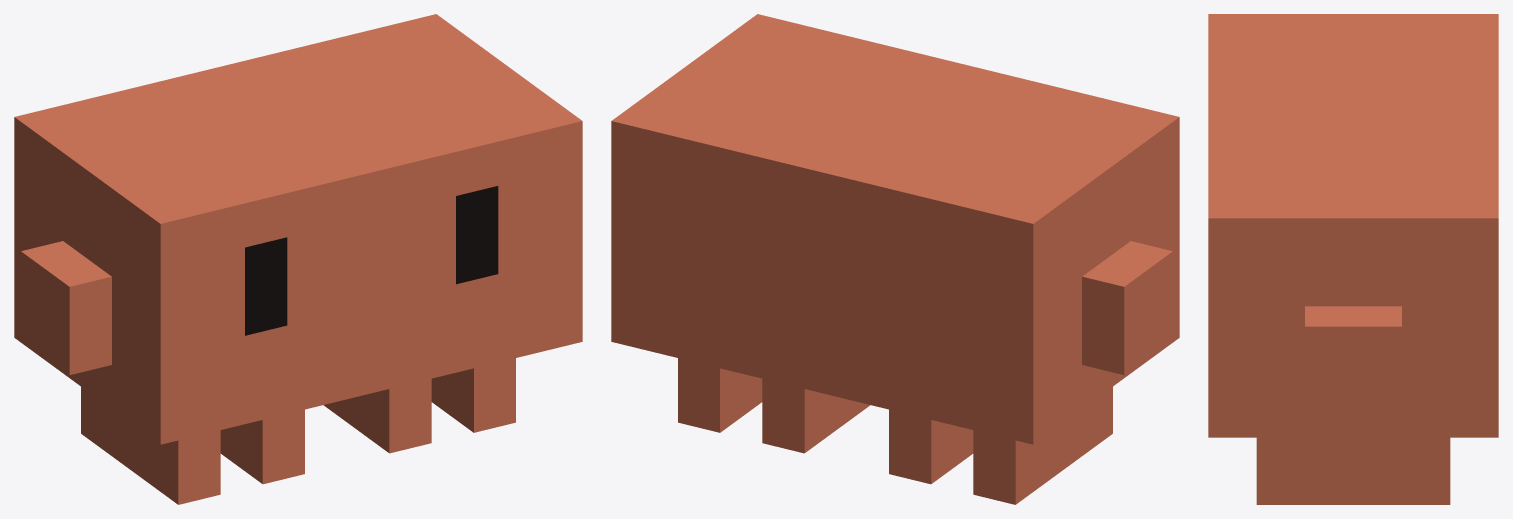
File: clawd.obj
3 views of the same model, side by side, from view 1: azimuth 30°, elevation 25°; view 2: azimuth 150°, elevation 25°; view 3: azimuth 270°, elevation 25° (orthographic).
Parts seen in each view (by area): view 1: Clawd; view 2: Clawd; view 3: Clawd.
Boxes of the visible parts, box(x1,y1,x2,y2) form: Clawd: box(14, 14, 582, 504); Clawd: box(611, 14, 1179, 504); Clawd: box(1208, 14, 1498, 504).
Bounding box in the file's own units: 60 × 35 × 30.
